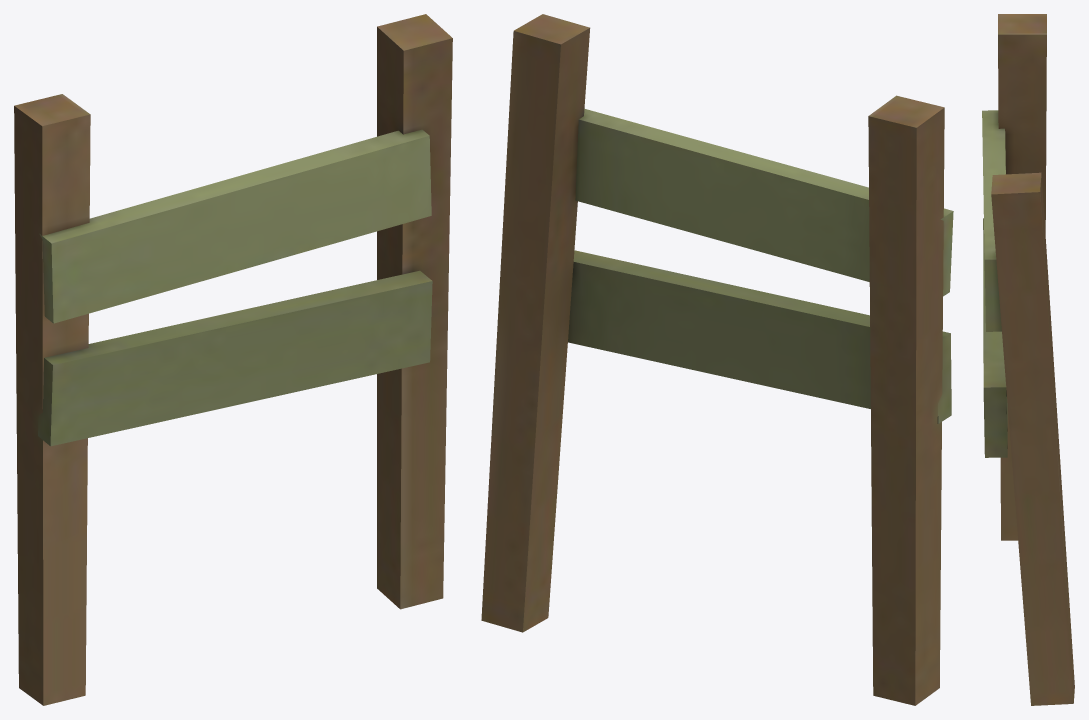
The model's file is prepyatst.glb.
The picture shows the model from 3 angles, left to right: view 1: azimuth 30°, elevation 25°; view 2: azimuth 150°, elevation 25°; view 3: azimuth 270°, elevation 25°; orthographic projection. The views are drawn at different scales.
Visible parts, largest first — view 1: Object_2; view 2: Object_2; view 3: Object_2.
Part boxes in pixels (x1,y1,x2,y2): Object_2: [14, 14, 452, 705]; Object_2: [481, 14, 953, 705]; Object_2: [982, 14, 1074, 705].
Bounding box in the file's own units: 0.8096 × 1.08 × 0.1774.
Materials: 1 (1 with a texture image).
